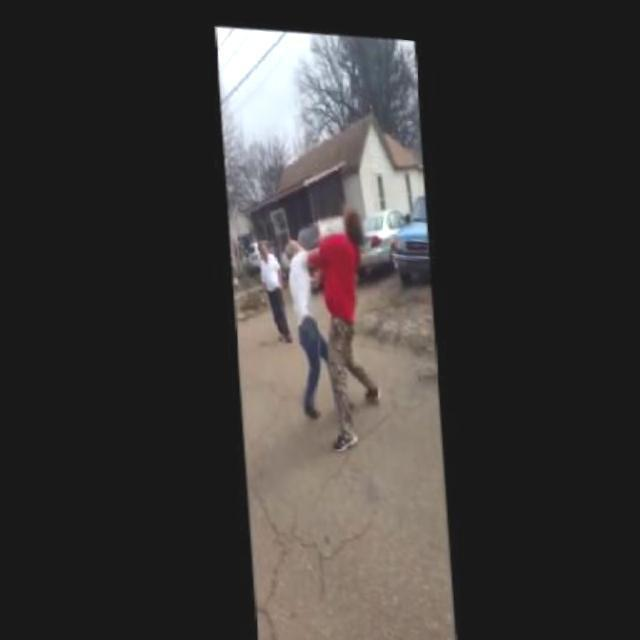fight: (270, 198, 390, 455)
